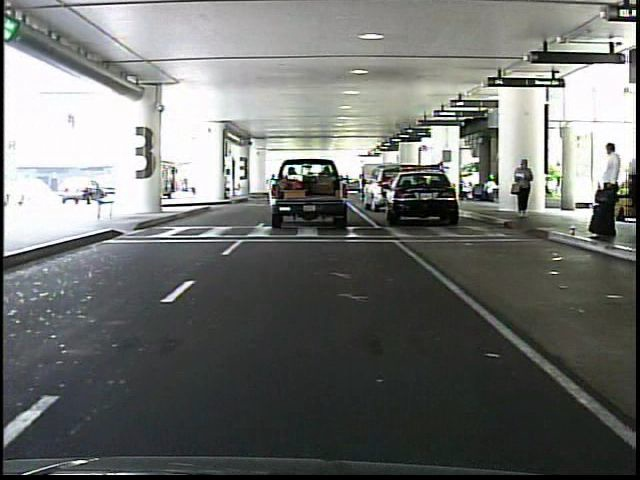person: (588, 138, 622, 244), (512, 150, 539, 223), (434, 160, 450, 205)
